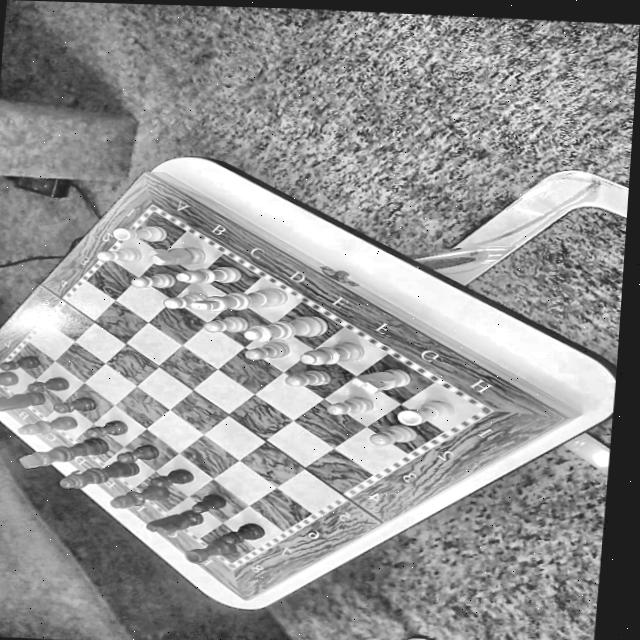chessboard: (0, 212, 477, 562)
